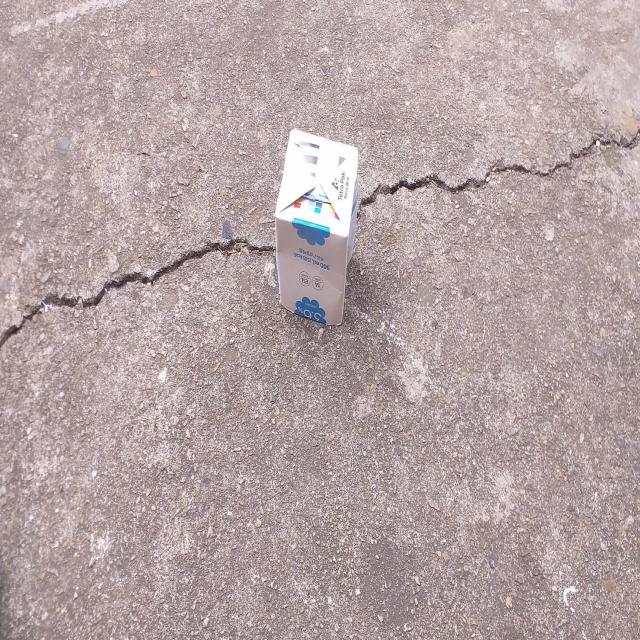paperpack: (275, 128, 359, 325)
